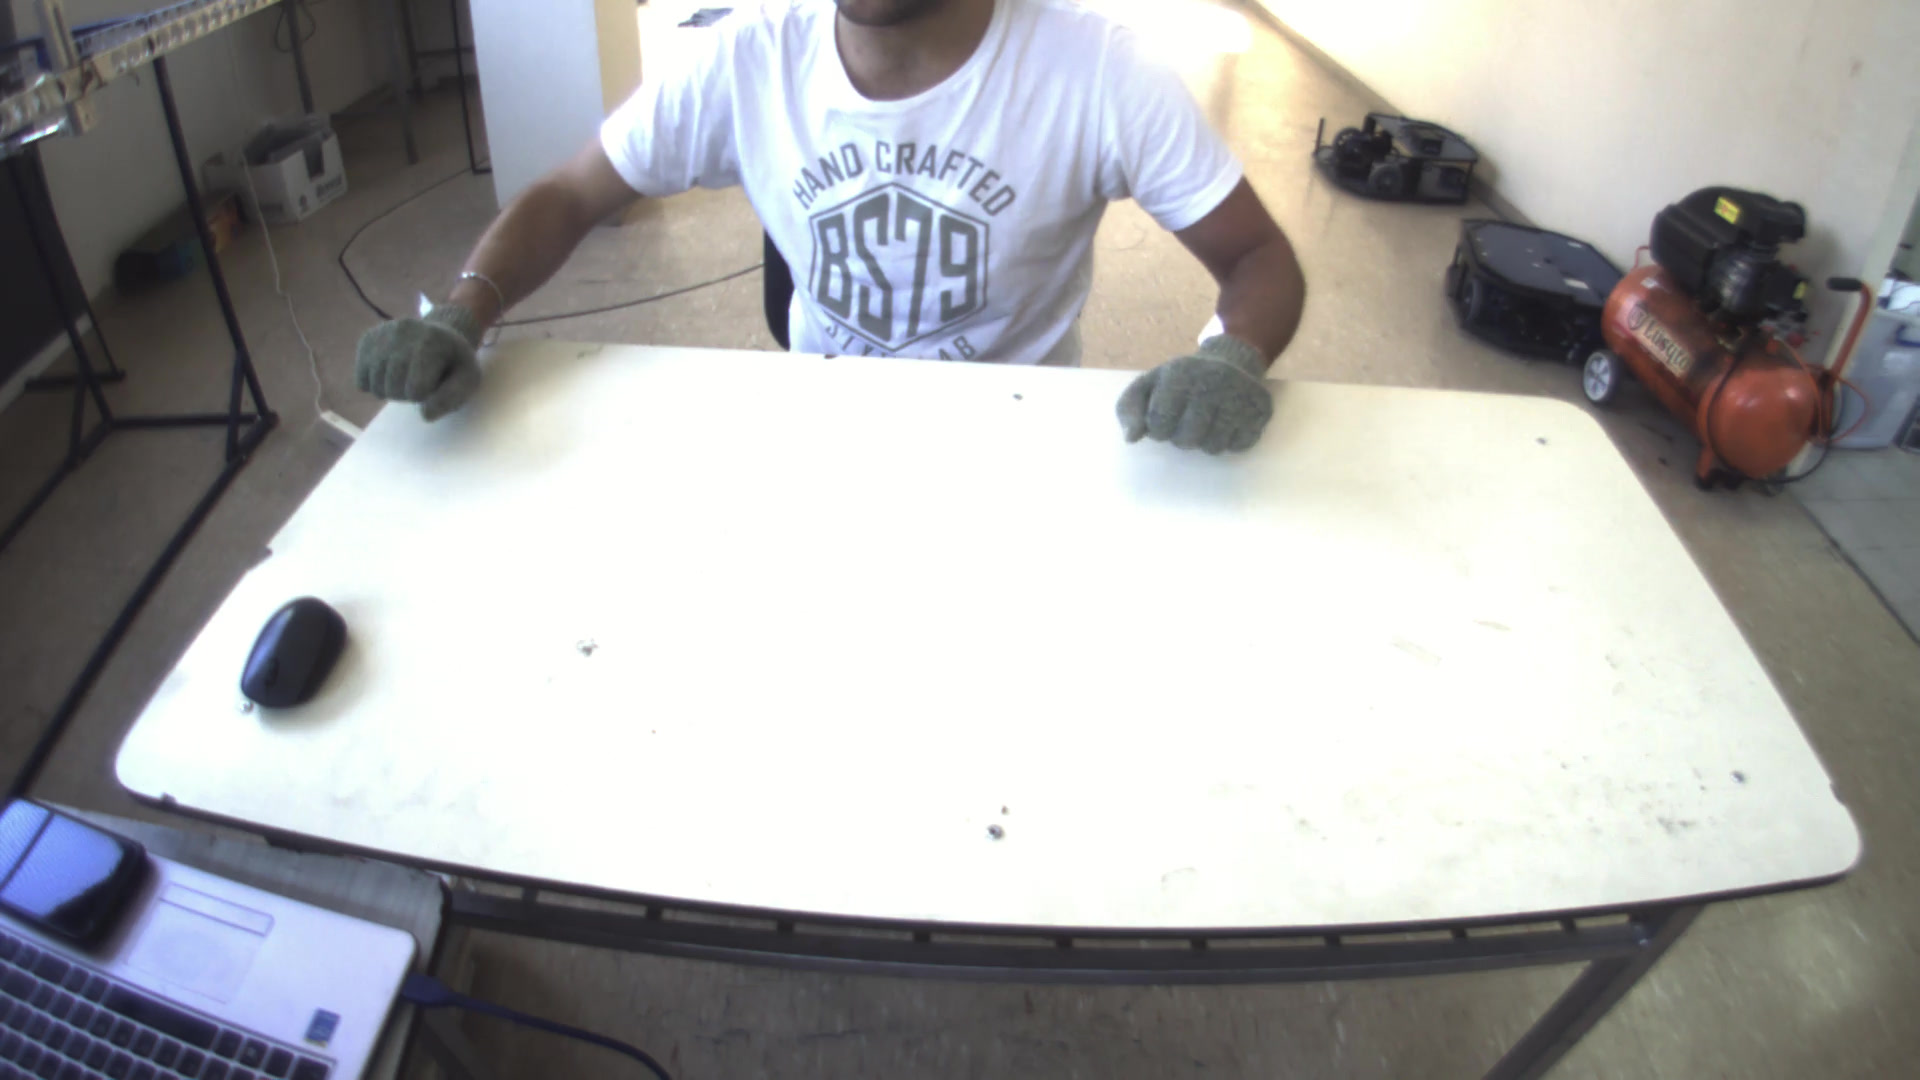hand: (1114, 328, 1282, 458), (342, 281, 492, 421)
